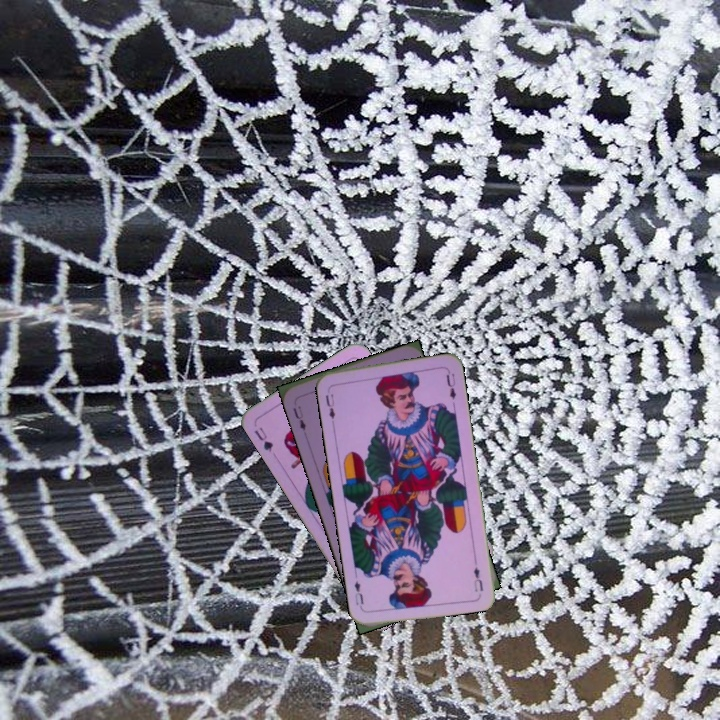EU: (289, 402, 309, 436), (322, 390, 338, 421), (470, 563, 486, 594)
GU: (250, 423, 276, 455)
